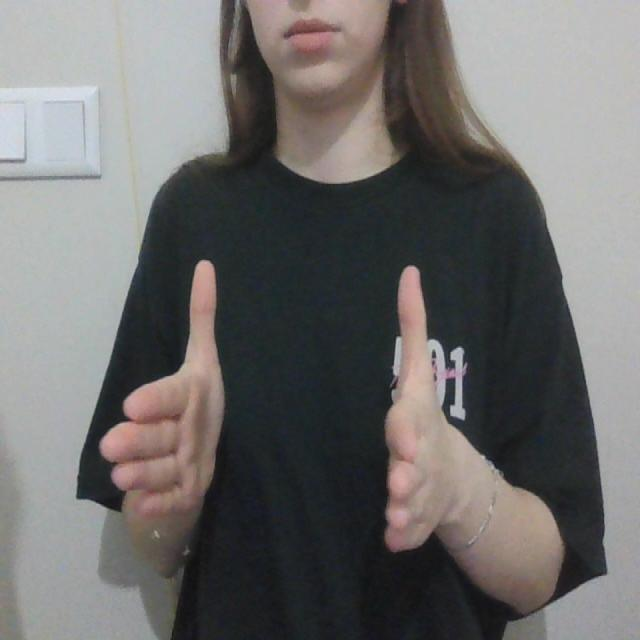Nasil: (95, 230, 450, 583)
